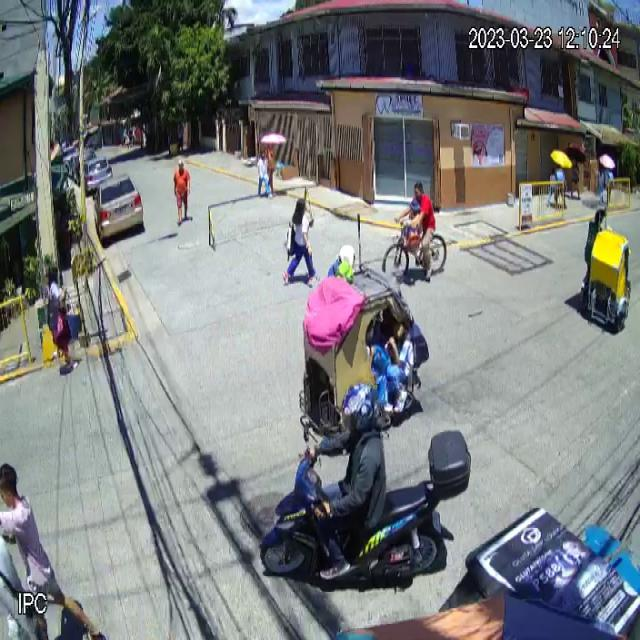Car: (92, 172, 144, 247)
Motorcycle: (258, 424, 472, 591)
